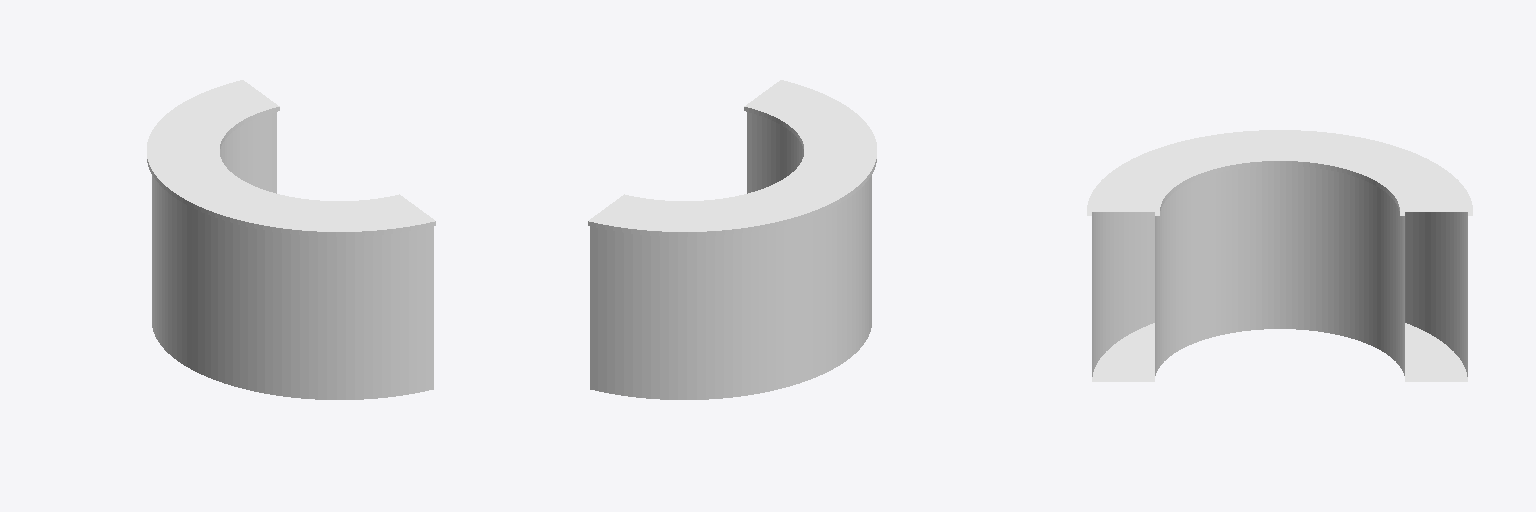
File: ProCourseCurve1.obj
3 views of the same model, side by side, from view 1: azimuth 30°, elevation 25°; view 2: azimuth 150°, elevation 25°; view 3: azimuth 270°, elevation 25° (orthographic).
Visible parts, largest first — view 1: ProCourseCurve1; view 2: ProCourseCurve1; view 3: ProCourseCurve1.
Part boxes in pixels (x1,y1,x2,y2): ProCourseCurve1: (147, 80, 435, 399); ProCourseCurve1: (588, 80, 876, 399); ProCourseCurve1: (1087, 130, 1472, 381).
Bounding box in the file's own units: 18.5 × 18 × 37.